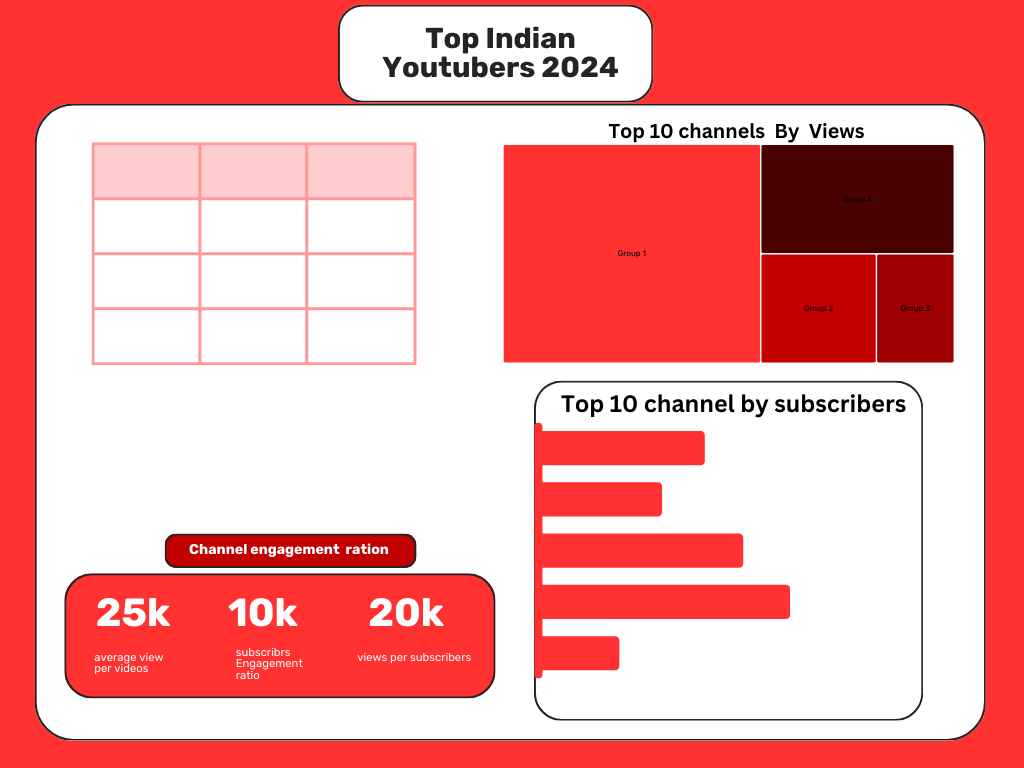

What the dashboard file says about the page in this screenshot:
{"tool":"powerbi","page":{"name":"Page 1","canvas":[1280,720],"ordinal":0},"visuals":[{"type":"textbox","box":[340.4,10.7,599.1,68.1],"z":0},{"type":"tableEx","fields":{"Values":["View_YT_data_.Channel_Name","View_YT_data_.Total Subscribers(M)","View_YT_data_.Total Videos","View_YT_data_.Total Views (B)"]},"box":[7.2,97.2,620.4,339.1],"z":1000},{"type":"treemap","title":"Top TEN YouTubers By Views","fields":{"Group":["View_YT_data_.Channel_Name"],"Values":["View_YT_data_.Total Views (B)"]},"box":[640,97.2,625.5,339.1],"z":2000},{"type":"card","fields":{"Values":["View_YT_data_.avg view per videos (M)"]},"box":[7.2,489,206.8,230.6],"z":3000},{"type":"card","fields":{"Values":["View_YT_data_.Subscriber engement rate"]},"box":[214,489,206.8,230.6],"z":4000},{"type":"card","fields":{"Values":["View_YT_data_.views per subscriber"]},"box":[420.8,489,206.8,230.6],"z":5000},{"type":"clusteredBarChart","title":"Top TEN YouTubers By Subscribers","fields":{"Category":["View_YT_data_.Channel_Name"],"Y":["View_YT_data_.Total Subscribers(M)"]},"box":[671,445.6,563.5,274],"z":6000},{"type":"textbox","box":[4.1,445.6,625.5,43.4],"z":6001}]}

Visuals, with their boxes on the page's 1280x720 design canvas (x1, y1, x2, y2). These are canvas units, not pixel positions in the 1024x768 screenshot, which may show the page scaled, cropped or inside an application window:
textbox: pyautogui.locateOnScreen(340, 11, 940, 79)
tableEx - View_YT_data_.Channel_Name x View_YT_data_.Total Subscribers(M): pyautogui.locateOnScreen(7, 97, 628, 436)
"Top TEN YouTubers By Views" treemap: pyautogui.locateOnScreen(640, 97, 1266, 436)
card - View_YT_data_.avg view per videos (M): pyautogui.locateOnScreen(7, 489, 214, 720)
card - View_YT_data_.Subscriber engement rate: pyautogui.locateOnScreen(214, 489, 421, 720)
card - View_YT_data_.views per subscriber: pyautogui.locateOnScreen(421, 489, 628, 720)
"Top TEN YouTubers By Subscribers" clusteredBarChart: pyautogui.locateOnScreen(671, 446, 1234, 720)
textbox: pyautogui.locateOnScreen(4, 446, 630, 489)
